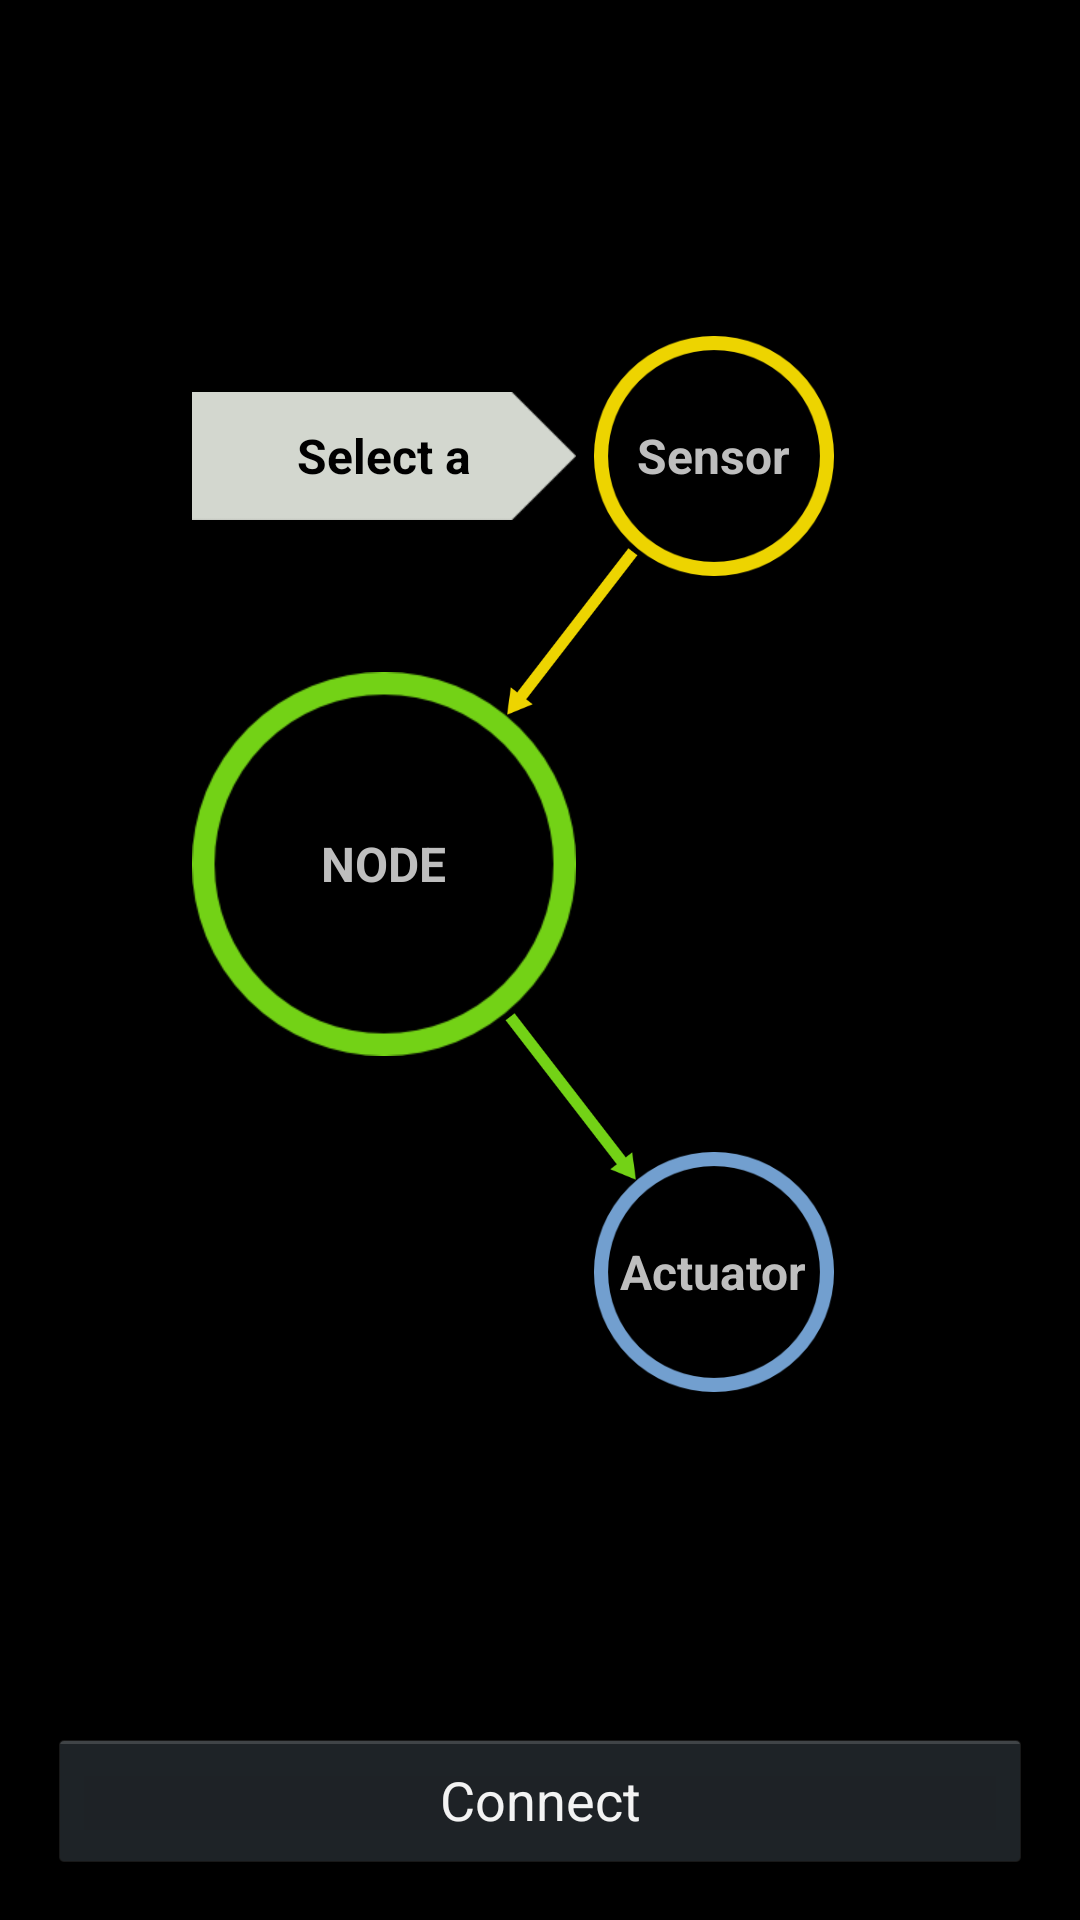

Named icons in this screenshot (1080px×1920px) and their bounding boxes, (x1, y1, x2, y2):
arrow: (495, 537, 651, 723), (492, 1002, 648, 1188)
